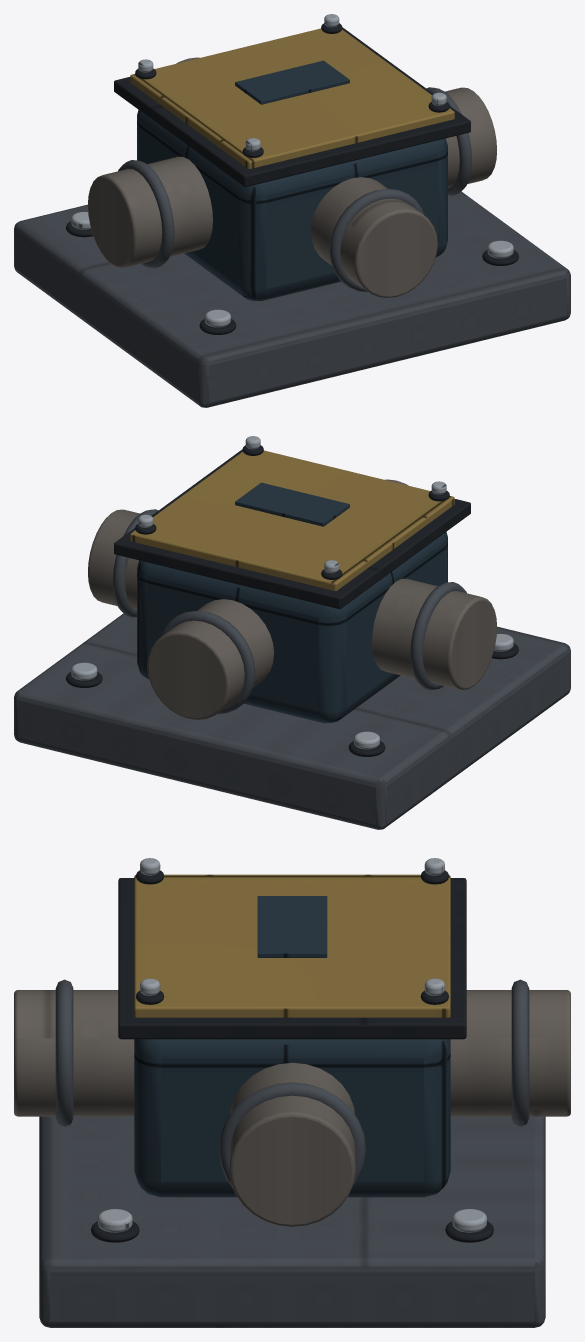
File: ops_power_junction_saddle_lod0.glb
3 views of the same model, one above another, from view 1: azimuth 30°, elevation 25°; view 2: azimuth 150°, elevation 25°; view 3: azimuth 270°, elevation 25° (orthographic). The views are drawn at different scales.
Visible parts, largest first — view 1: LOD0_Mechanical, LOD0_Armor, LOD0_Hull, LOD0_Ceramic, LOD0_MechanicalDark, LOD0_BrushedMetal; view 2: LOD0_Mechanical, LOD0_Armor, LOD0_Hull, LOD0_Ceramic, LOD0_MechanicalDark, LOD0_BrushedMetal; view 3: LOD0_Mechanical, LOD0_Ceramic, LOD0_Hull, LOD0_Armor, LOD0_MechanicalDark, LOD0_BrushedMetal.
Part boxes in pixels (bbox=[...]): LOD0_Mechanical: bbox=[14, 87, 570, 407]; LOD0_Armor: bbox=[137, 60, 447, 301]; LOD0_Hull: bbox=[130, 28, 454, 168]; LOD0_Ceramic: bbox=[88, 57, 496, 298]; LOD0_MechanicalDark: bbox=[66, 23, 518, 334]; LOD0_BrushedMetal: bbox=[71, 14, 513, 327]; LOD0_Mechanical: bbox=[14, 509, 570, 829]; LOD0_Armor: bbox=[137, 482, 447, 723]; LOD0_Hull: bbox=[130, 450, 454, 590]; LOD0_Ceramic: bbox=[88, 479, 496, 720]; LOD0_MechanicalDark: bbox=[66, 445, 518, 756]; LOD0_BrushedMetal: bbox=[71, 436, 513, 749]; LOD0_Mechanical: bbox=[39, 979, 545, 1327]; LOD0_Ceramic: bbox=[14, 990, 570, 1226]; LOD0_Hull: bbox=[134, 874, 450, 1017]; LOD0_Armor: bbox=[134, 896, 450, 1197]; LOD0_MechanicalDark: bbox=[91, 870, 493, 1242]; LOD0_BrushedMetal: bbox=[98, 858, 486, 1232].
Bounding box in the file's own units: 1.8 × 1.01 × 1.76.
6 materials, 6 textured.
